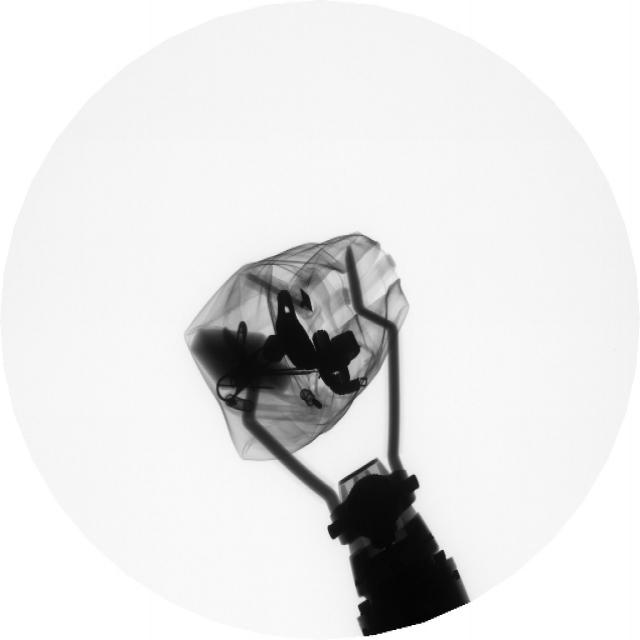BLADE: (260, 363, 322, 378)
